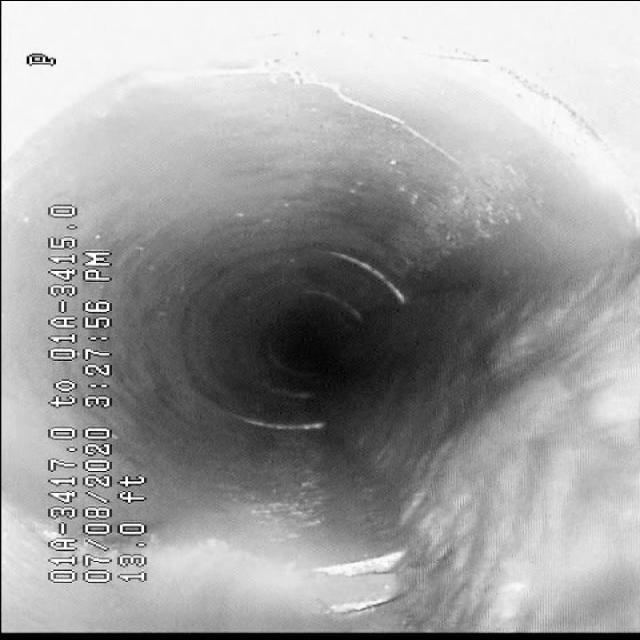Crack: (146, 59, 438, 170), (444, 45, 600, 131)
